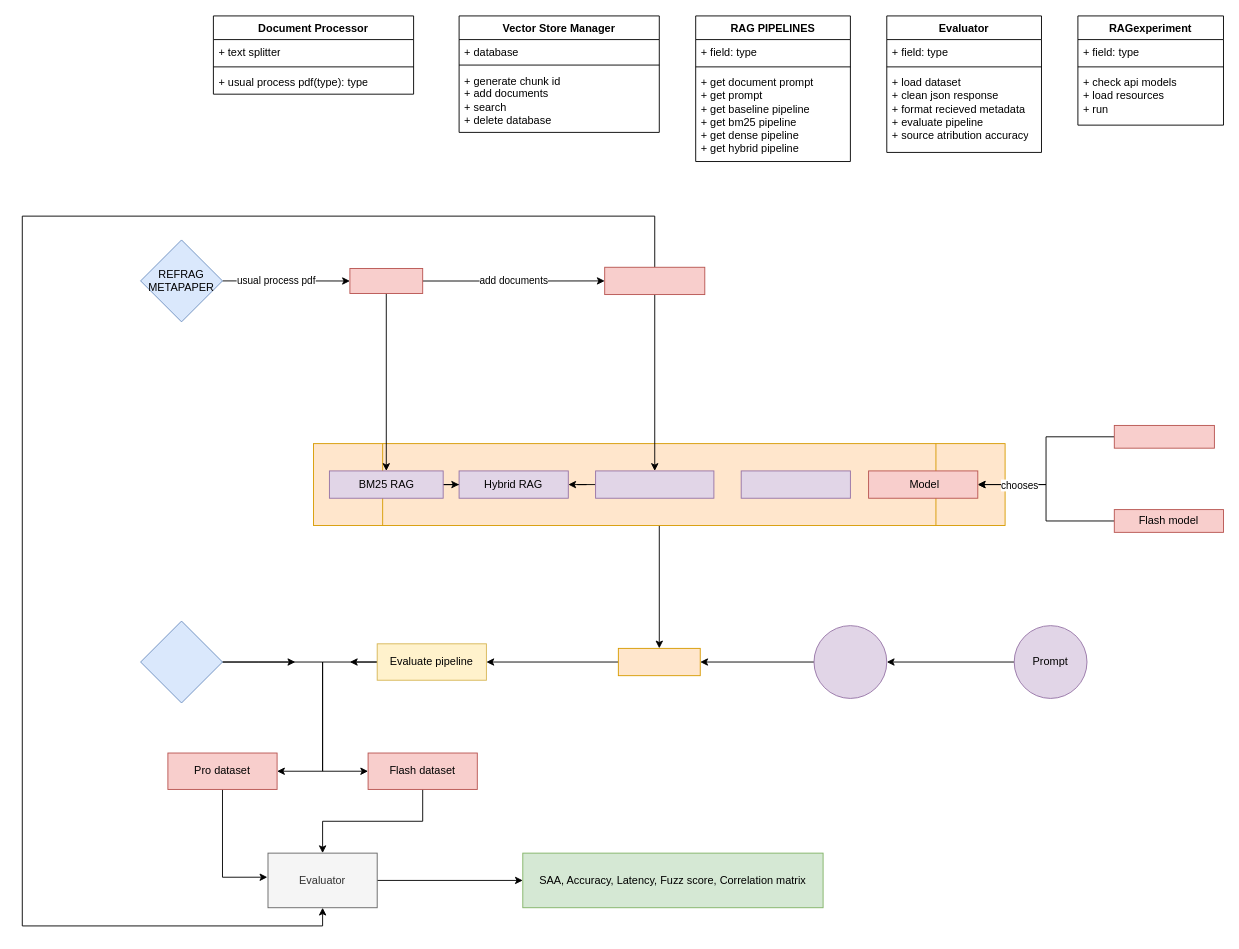
The diagram is 1239 pixels wide and 949 high, and some of its shapes have lost their labels. Each missing label, with the centre of its shape:
Baseline (Zero-shot): the point at 795,484
Chain: the point at 658,661
CHUNKS: the point at 386,280
Database: the point at 654,280
Dense RAG: the point at 654,484
Input data: the point at 850,661
Pro model: the point at 1163,436
QUESTIONS DATASET: the point at 181,661
